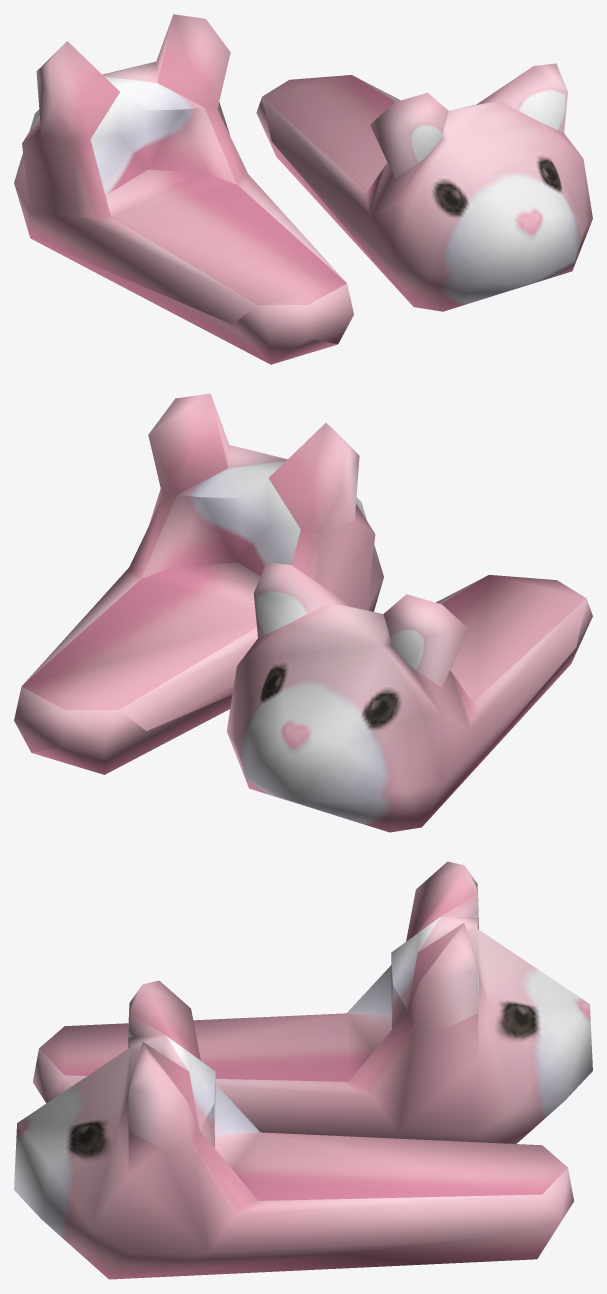
File: SlippersTeddy_Ground.fbx
3 renders of one model, top to bottom at view 1: azimuth 30°, elevation 25°; view 2: azimuth 150°, elevation 25°; view 3: azimuth 270°, elevation 25°, orthographic. The views are drawn at different scales.
Parts seen in each view (by area): view 1: SlippersTeddy; view 2: SlippersTeddy; view 3: SlippersTeddy.
Boxes of the visible parts, x1=… form: SlippersTeddy: x1=14, y1=14, x2=592, y2=364; SlippersTeddy: x1=14, y1=393, x2=592, y2=832; SlippersTeddy: x1=14, y1=861, x2=592, y2=1279.
Size of the model in its own units: 0.1883 by 0.0871 by 0.202.
